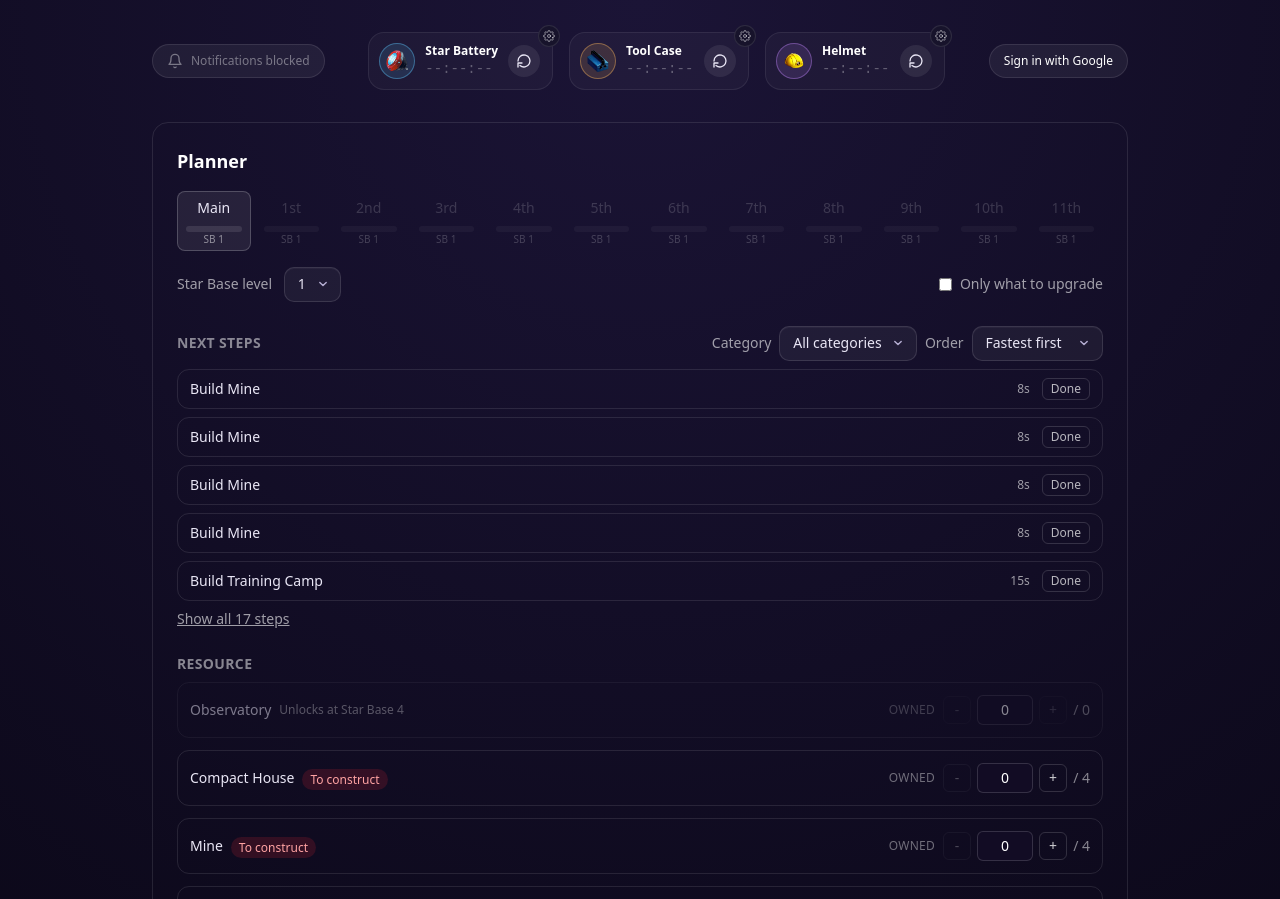
App › starts the Cooldown immediately when the player presses the relaunch button
Click the button named "Start Star Battery timer" at coordinates (524, 61), box [508,45,540,77]
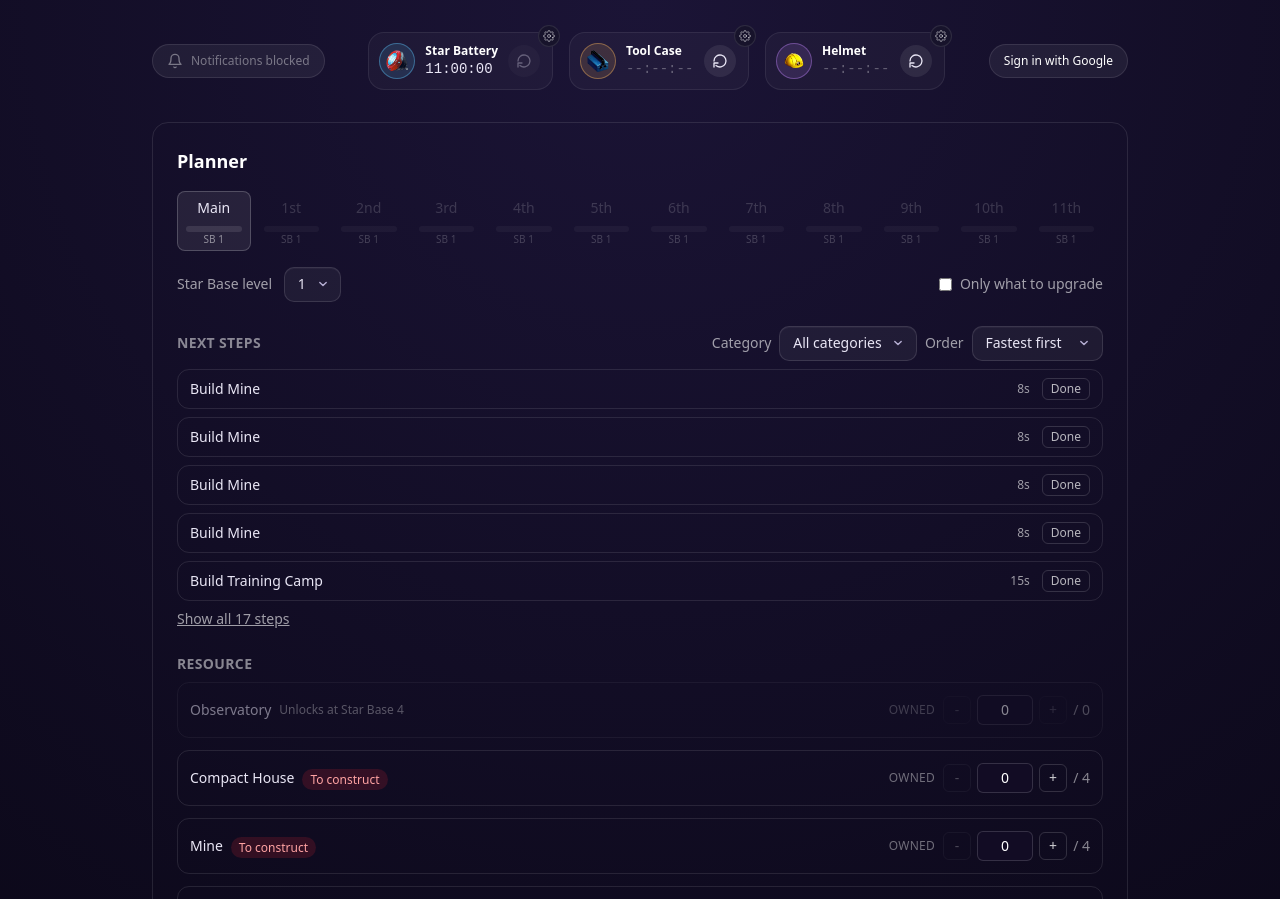
Expected: the text "--:--:--" below "Tool Case" is shown, [626,61,693,77]
Result: the text "11:00:00" is shown at [425,59,498,79]
